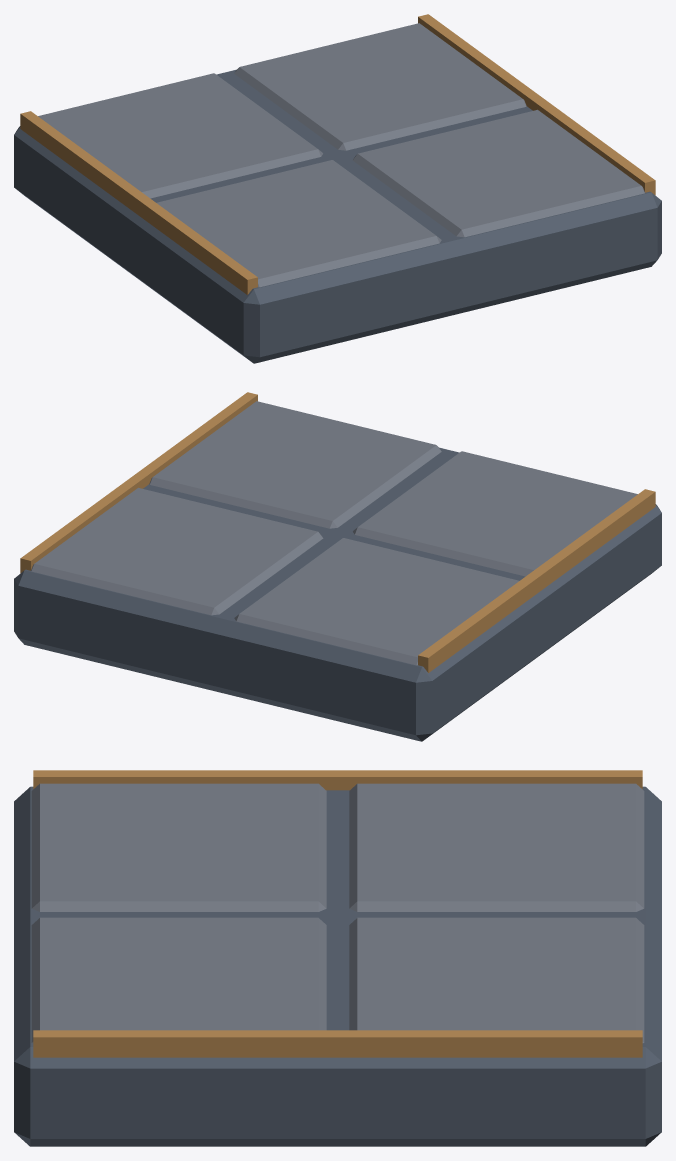
Rendered from floor-bronze.fbx.
3 renders of one model, top to bottom at view 1: azimuth 30°, elevation 25°; view 2: azimuth 150°, elevation 25°; view 3: azimuth 270°, elevation 25°, orthographic. The views are drawn at different scales.
Visible parts, largest first — view 1: foundation, inset flagstone.002, inset flagstone.003, inset flagstone, inset flagstone.001, border rail, border rail.001; view 2: foundation, inset flagstone.003, inset flagstone.002, inset flagstone.001, inset flagstone, border rail, border rail.001; view 3: foundation, inset flagstone, inset flagstone.001, inset flagstone.002, inset flagstone.003, border rail.001, border rail.
Part boxes in pixels (x1,y1,x2,y2): foundation: (14, 69, 661, 363); inset flagstone.002: (352, 109, 644, 237); inset flagstone.003: (234, 23, 526, 150); inset flagstone: (156, 160, 441, 287); inset flagstone.001: (38, 73, 322, 198); border rail: (20, 111, 257, 294); border rail.001: (418, 14, 655, 195); foundation: (14, 447, 661, 741); inset flagstone.003: (31, 487, 323, 615); inset flagstone.002: (149, 401, 441, 528); inset flagstone.001: (234, 538, 519, 665); inset flagstone: (353, 451, 637, 576); border rail: (418, 489, 655, 672); border rail.001: (20, 392, 257, 573); foundation: (14, 786, 661, 1146); inset flagstone: (31, 783, 326, 911); inset flagstone.001: (349, 783, 644, 911); inset flagstone.002: (31, 917, 326, 1042); inset flagstone.003: (349, 917, 644, 1042); border rail.001: (33, 1030, 642, 1057); border rail: (33, 770, 642, 790).
Bounding box in the file's own units: 100 × 19.25 × 100.
